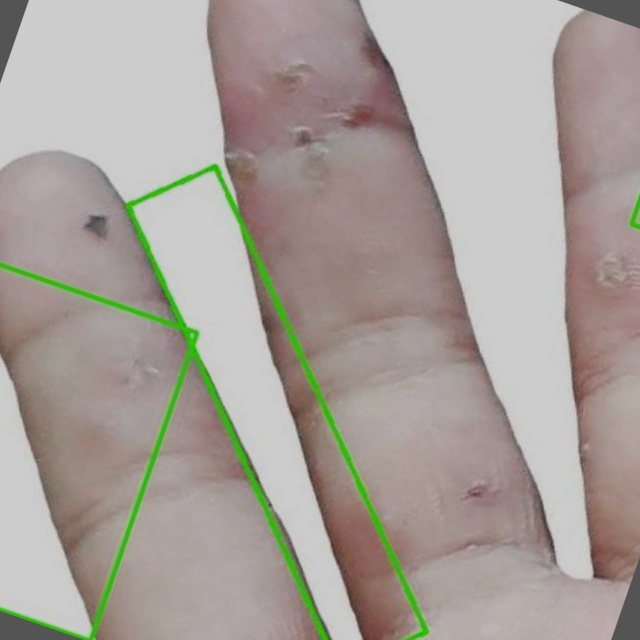Scabies: (128, 167, 425, 639)
